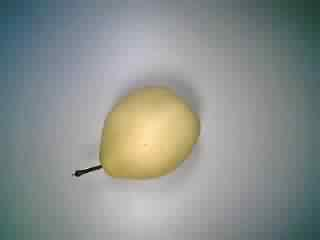pear: (66, 82, 216, 189)
